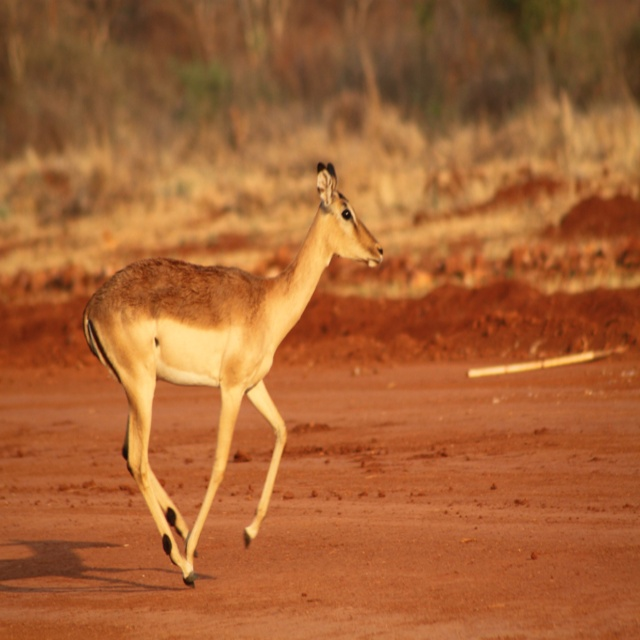Deer: (84, 164, 383, 582)
